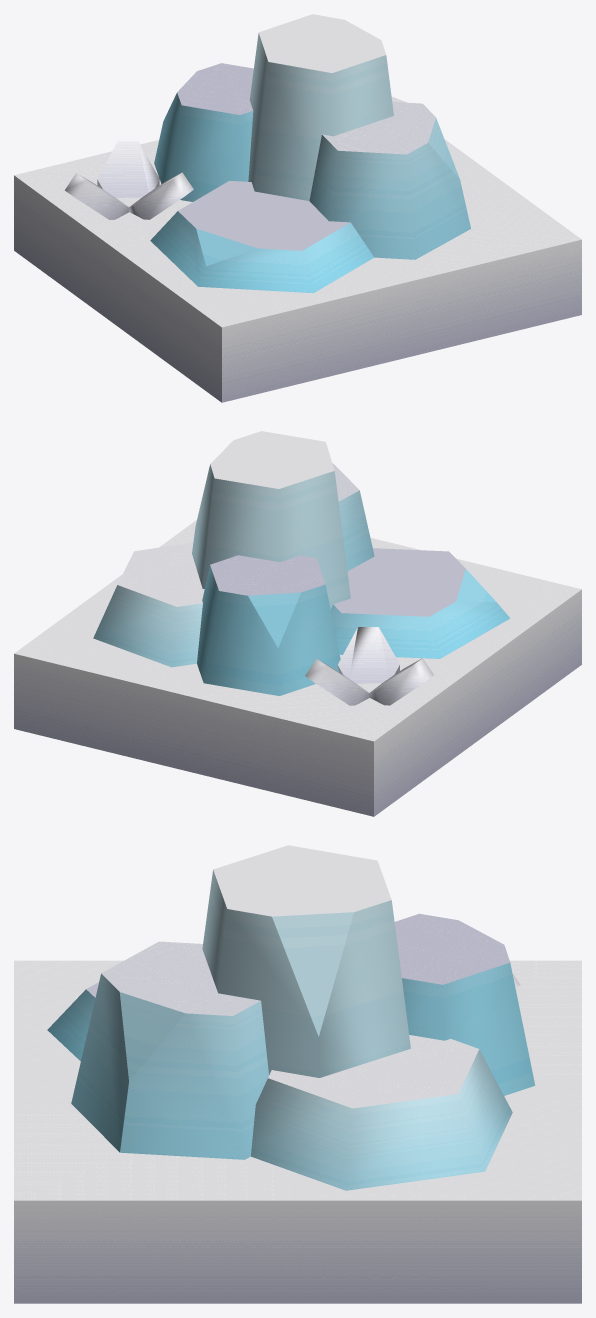
The model's file is snow-tile-hill.glb.
The picture shows the model from 3 angles, top to bottom: view 1: azimuth 30°, elevation 25°; view 2: azimuth 150°, elevation 25°; view 3: azimuth 270°, elevation 25°; orthographic projection. The views are drawn at different scales.
Parts seen in each view (by area): view 1: snow-tile-hill; view 2: snow-tile-hill; view 3: snow-tile-hill.
Boxes of the visible parts, x1=… form: snow-tile-hill: x1=14, y1=14, x2=581, y2=402; snow-tile-hill: x1=14, y1=431, x2=581, y2=816; snow-tile-hill: x1=14, y1=845, x2=581, y2=1303.
Bounding box in the file's own units: 1 × 0.6145 × 1.
1 material, 1 textured.
